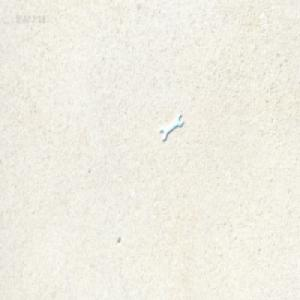Wrench: (160, 113, 182, 141)
